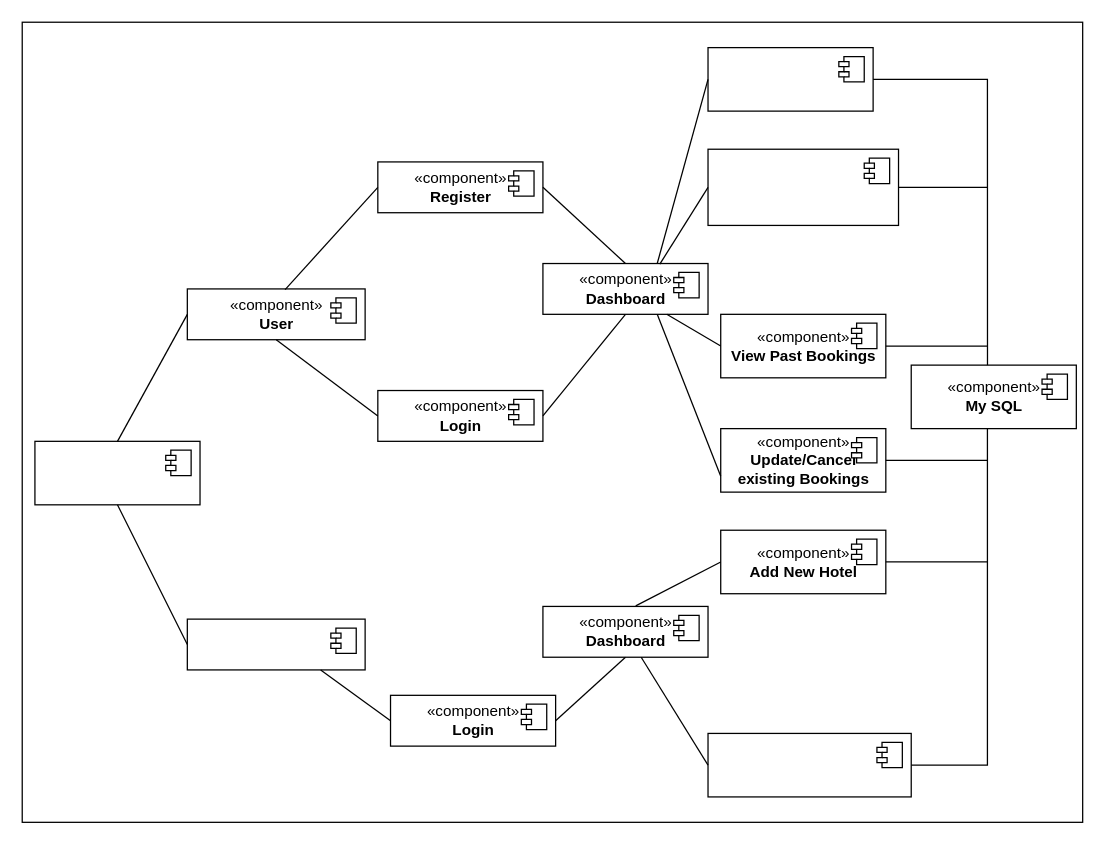
This 1105x845 diagram has some shape labels left out. Each missing label, with the centre of its shape:
"«component» Confirm Booking Pay with Card/loyalty points" belongs at pixel 803 186.
"«component» Hotel Application" belongs at pixel 117 472.
"«component» Hotel Employee" belongs at pixel 275 644.
"«component» Search Hotel" belongs at pixel 790 78.
"«component» Update Room Costs for weekends/holidays" belongs at pixel 809 764.
